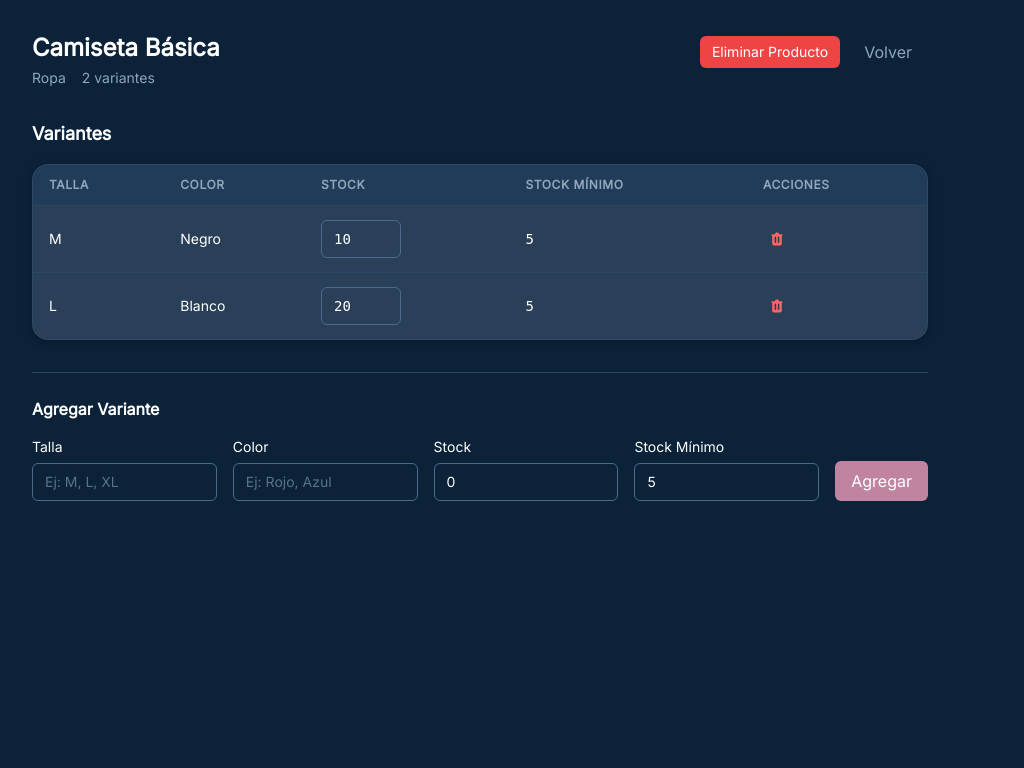
InventoryDetailPage - Deletion UI › ConfirmDialog shows variant size/color on variant delete (Req 2.1)
Click the button named "eliminar variante M Negro".
click(777, 239)  # box [763,225,791,253]
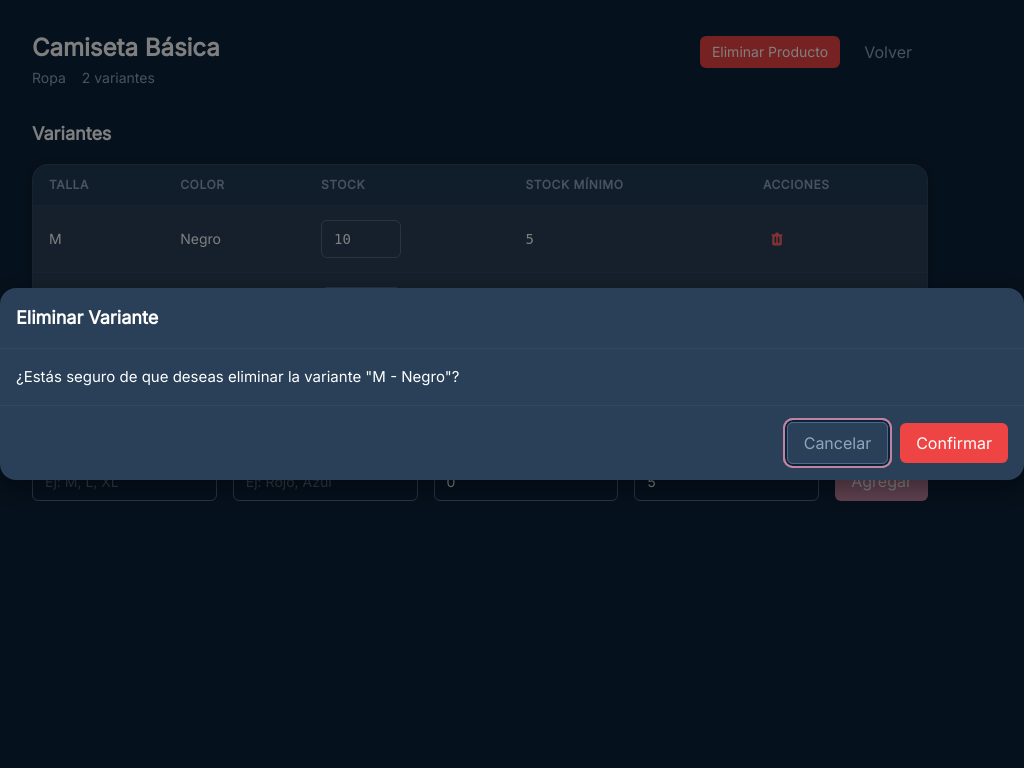
Expected: the text "M - Negro" is shown, [16,367,459,386]
